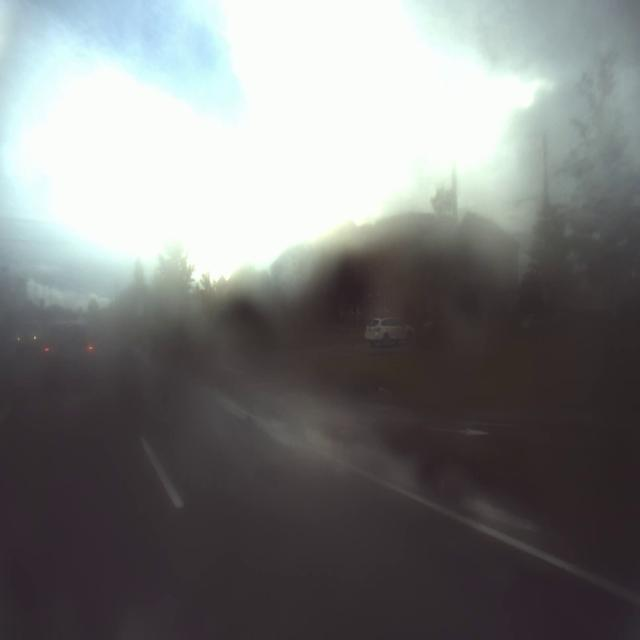car: (40, 311, 100, 397)
